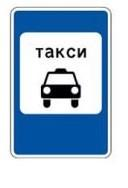road_sign: (8, 2, 115, 161)
